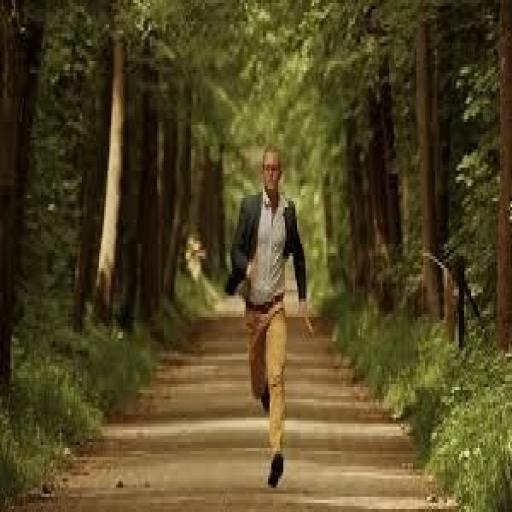running: (224, 140, 318, 494)
